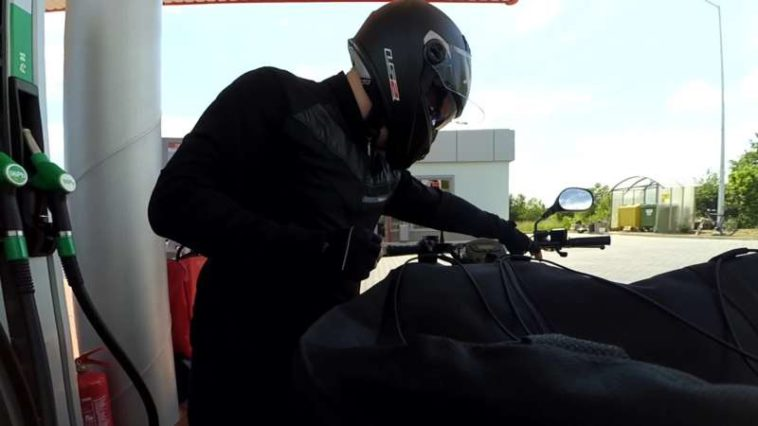helmet: (247, 1, 537, 248)
